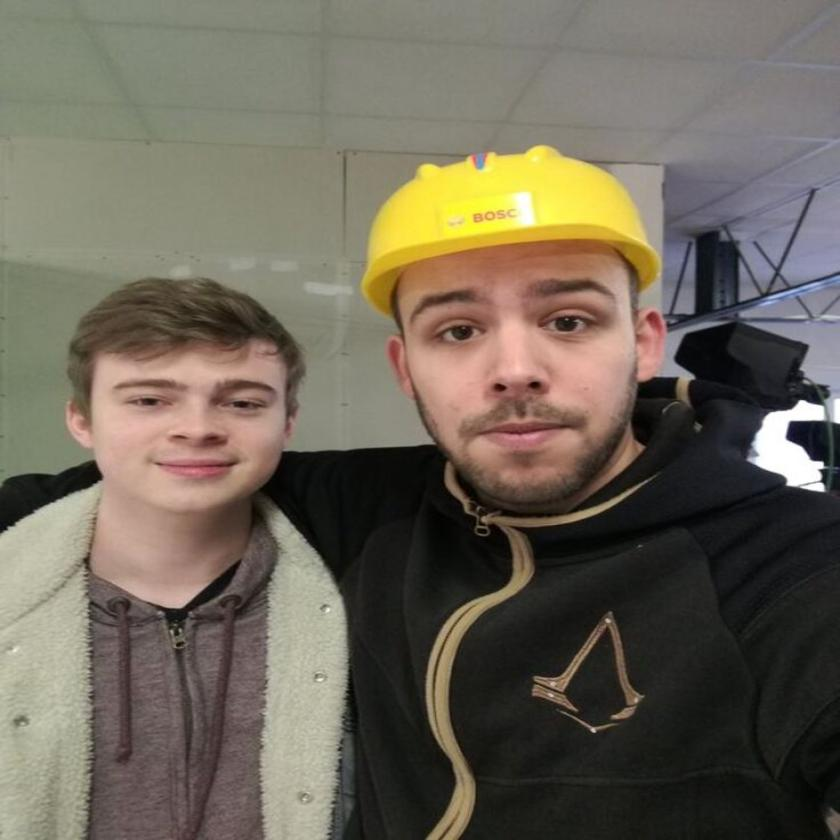Con_casco: (351, 145, 678, 542)
Sin_casco: (66, 271, 302, 528)
